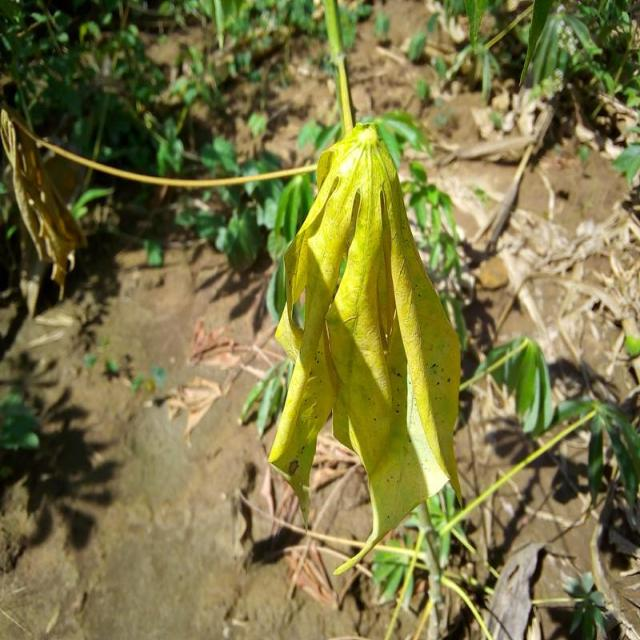cassava leaf: (266, 119, 464, 575)
